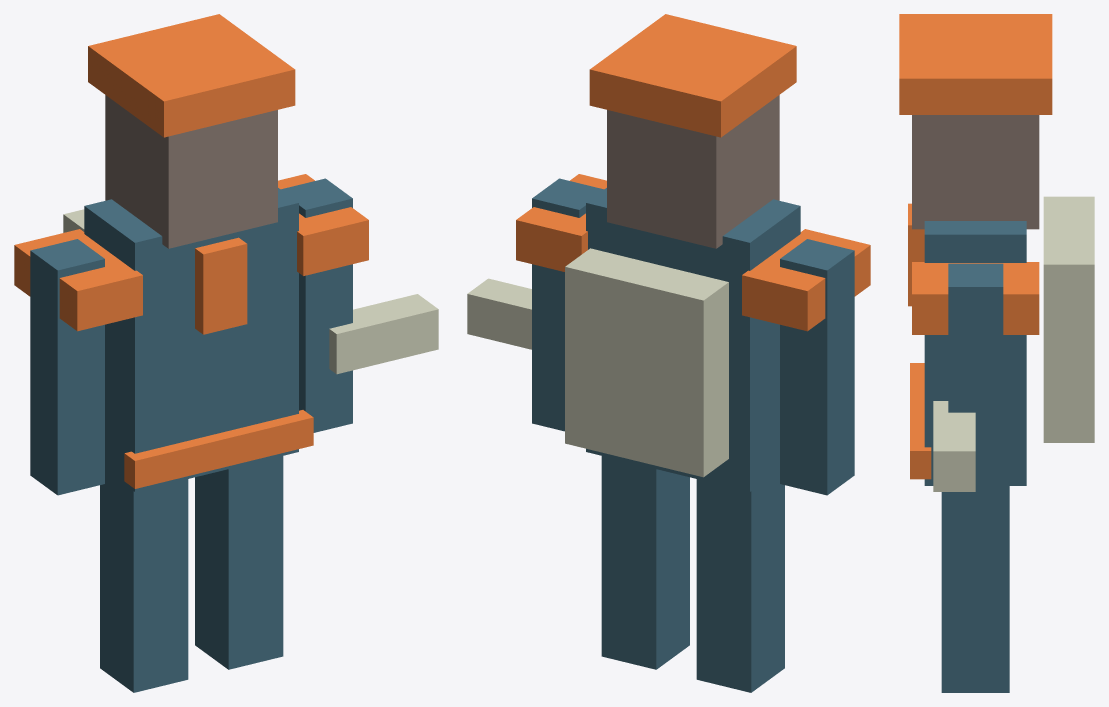
Rendered from 09_vexa_trenchmark_specialist_under_main.glb.
The picture shows the model from 3 angles, left to right: view 1: azimuth 30°, elevation 25°; view 2: azimuth 150°, elevation 25°; view 3: azimuth 270°, elevation 25°; orthographic projection.
Visible parts, largest first — view 1: Vexa Trenchmark, Specialist under Main; view 2: Vexa Trenchmark, Specialist under Main; view 3: Vexa Trenchmark, Specialist under Main.
Part boxes in pixels (x1,y1,x2,y2): Vexa Trenchmark, Specialist under Main: [14, 14, 438, 692]; Vexa Trenchmark, Specialist under Main: [467, 14, 870, 692]; Vexa Trenchmark, Specialist under Main: [899, 14, 1094, 692].
Size of the model in its own units: 0.9569 by 1.48 by 0.4294.
